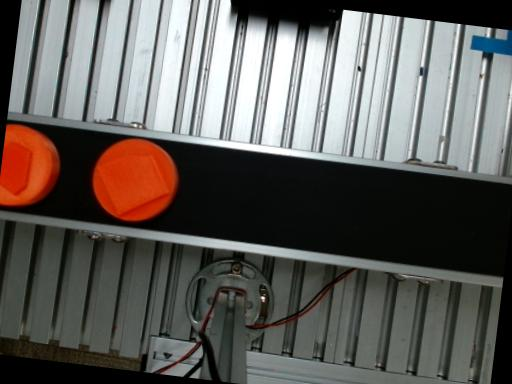Not_Square: (96, 151, 171, 214)
Orange_Waper: (94, 139, 178, 221), (0, 124, 59, 205)
